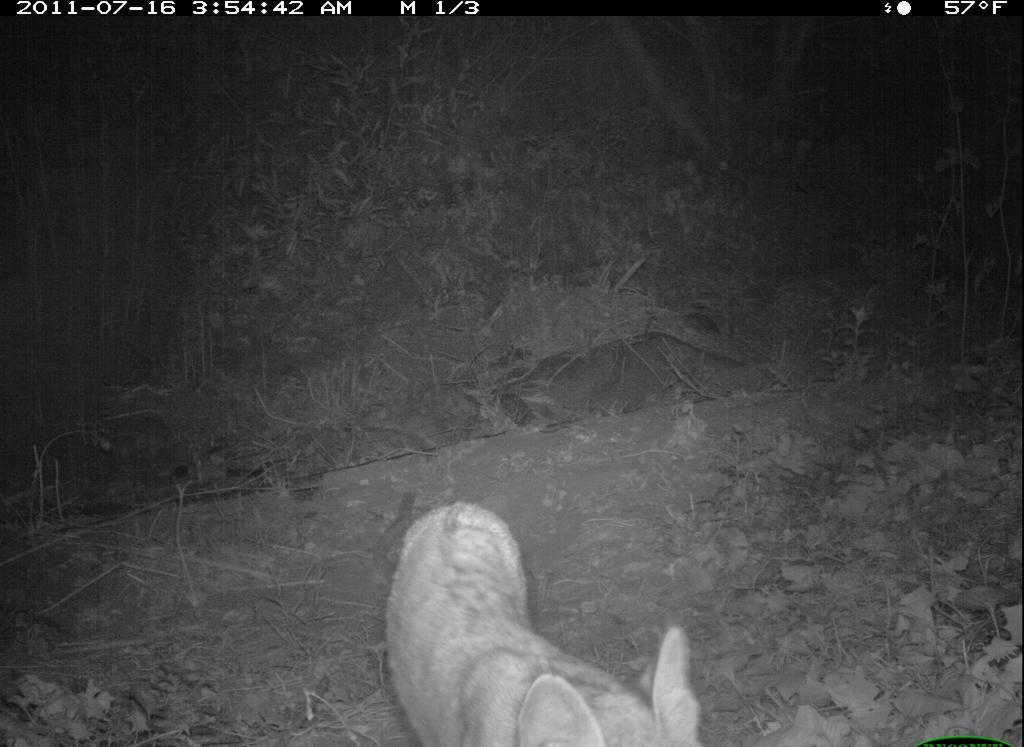bobcat: (386, 500, 713, 745)
